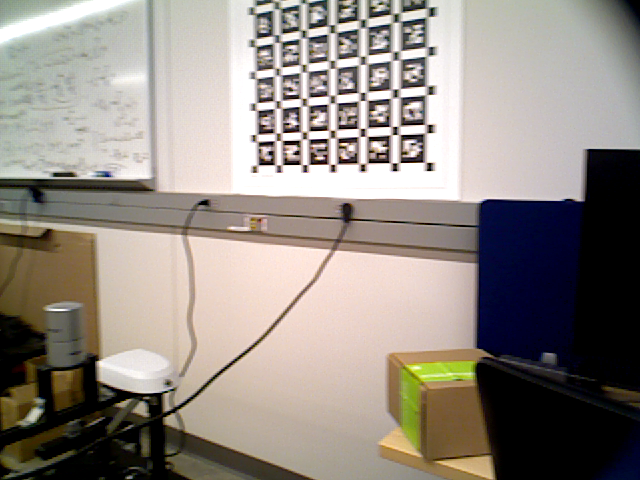painting4: (231, 1, 458, 198)
